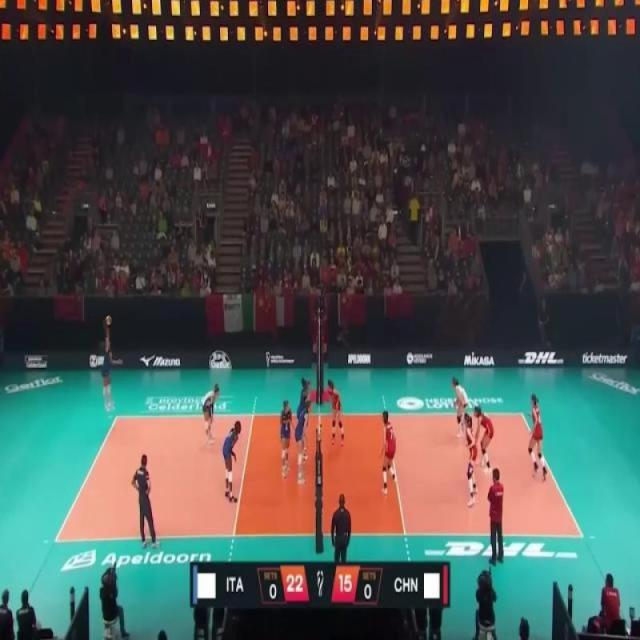volleyball: (105, 314, 112, 326)
